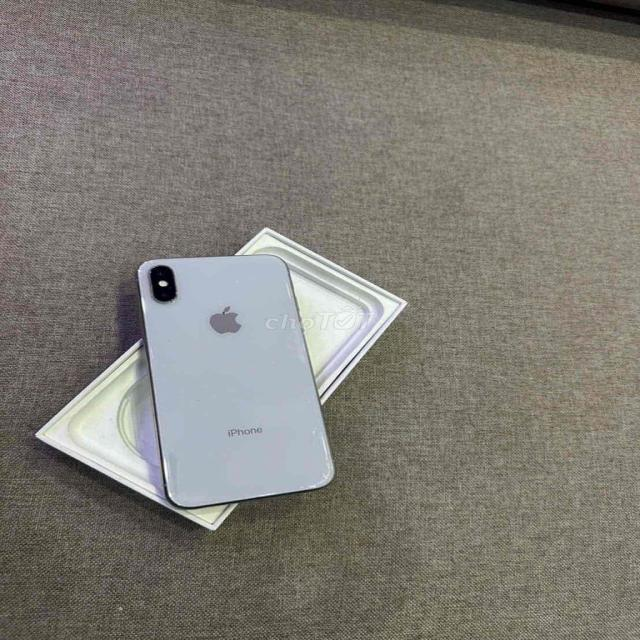gen_x_xs: (133, 239, 342, 516)
